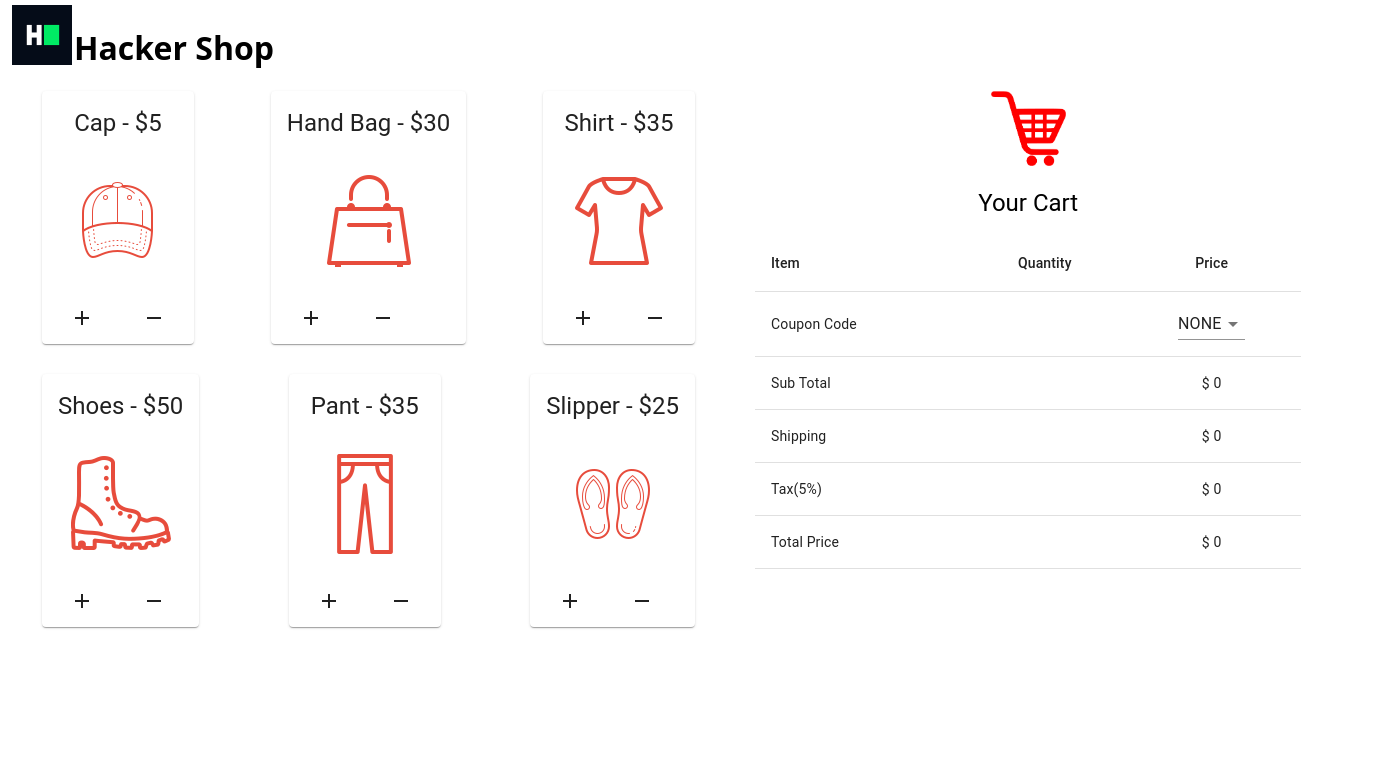
Test: Hacker Shop <App/> › Check Shipping cost (free shipping if Subtotal > $50)
Click the button with id "buttonAdd3". click: click(82, 601)
box: [50,583,114,619]
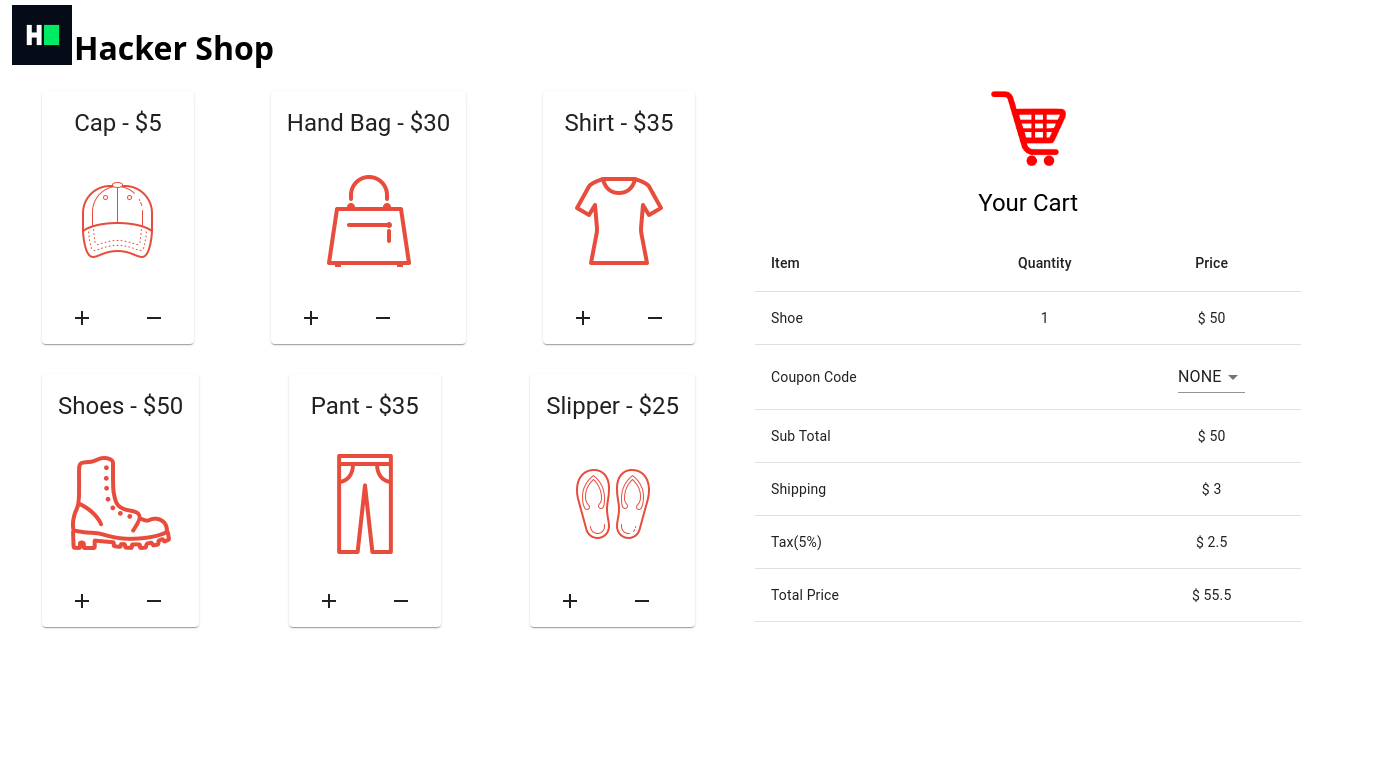
Click the button with id "buttonAdd1". click: click(311, 318)
box: [279,300,343,336]
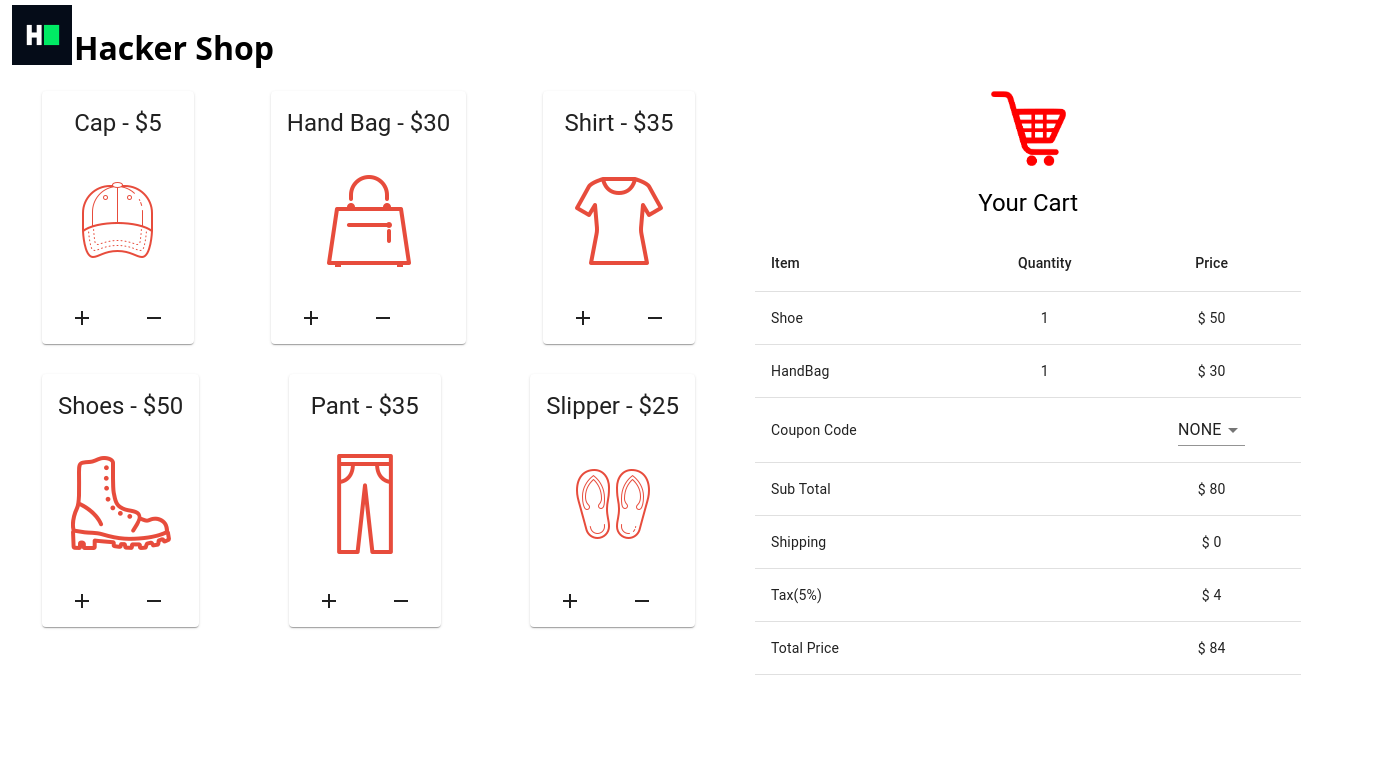
Result: the row with id "shippingRow" reads "Shipping $ 0" at [755,515,1301,568]
Result: the row with id "taxRow" reads "Tax(5%) $ 4" at [755,568,1301,622]
